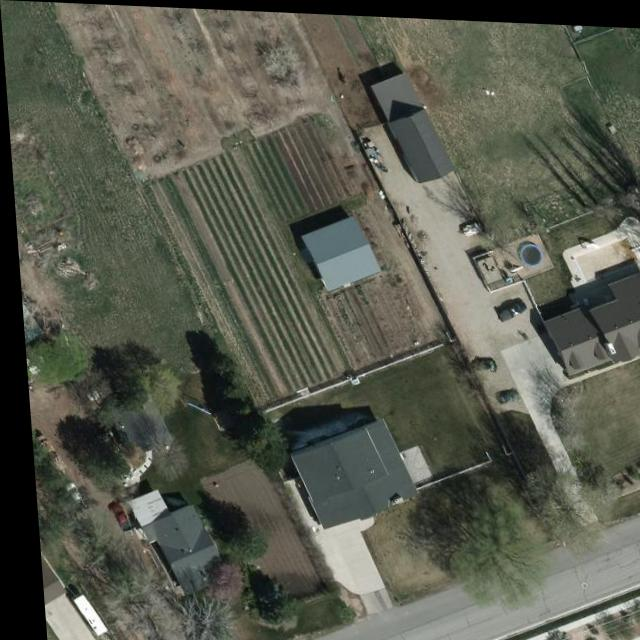vehicle: (99, 501, 130, 535), (53, 481, 81, 516), (491, 295, 525, 318), (466, 353, 493, 370), (489, 384, 515, 401)
